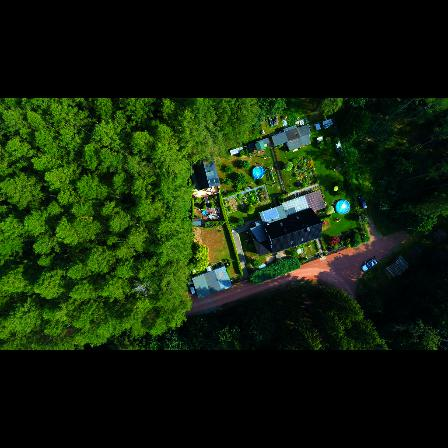Dead: (126, 276, 154, 300)
